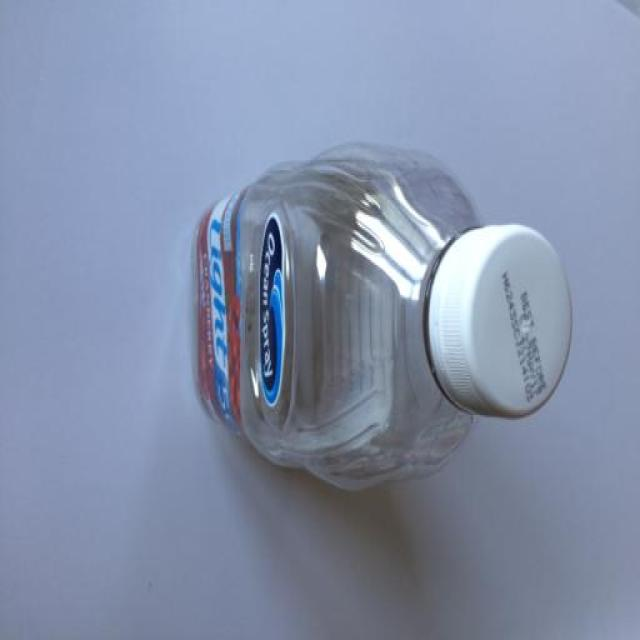Plastic: (190, 138, 572, 490)
